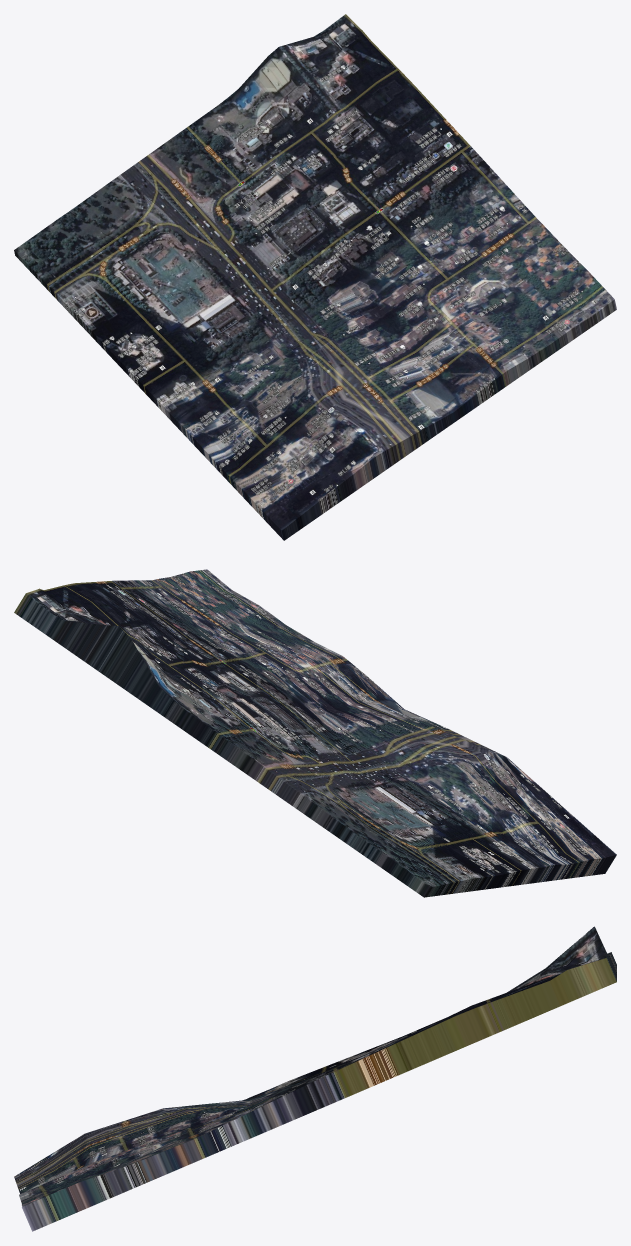
3 views of the same model, one above another, from view 1: azimuth 30°, elevation 25°; view 2: azimuth 150°, elevation 25°; view 3: azimuth 270°, elevation 25° (orthographic). The views are drawn at different scales.
Parts seen in each view (by area): view 1: 0_11_20; view 2: 0_11_20; view 3: 0_11_20.
Part boxes in pixels (box(x1,y1,x2,y2)): 0_11_20: box(14, 14, 616, 540); 0_11_20: box(14, 569, 616, 897); 0_11_20: box(14, 926, 616, 1231).
Size of the model in its own units: 597 by 449 by 559.
Materials: 1 (1 with a texture image).
